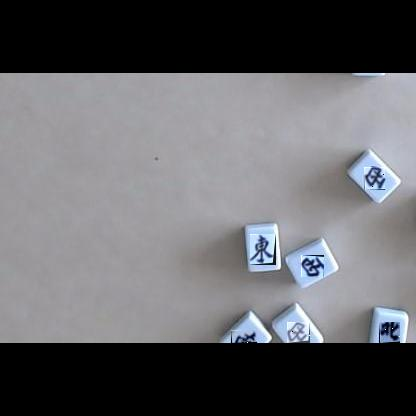1z: (250, 234, 276, 265)
2z: (231, 330, 257, 343)
3z: (301, 255, 324, 277), (364, 167, 385, 190), (287, 322, 310, 343)
4z: (379, 322, 400, 343)
